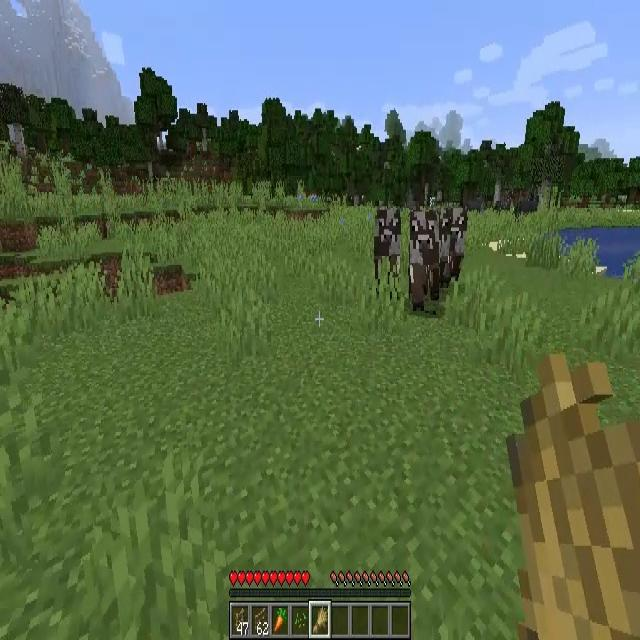cow: (410, 210, 439, 311), (376, 208, 402, 292), (441, 203, 467, 273)
